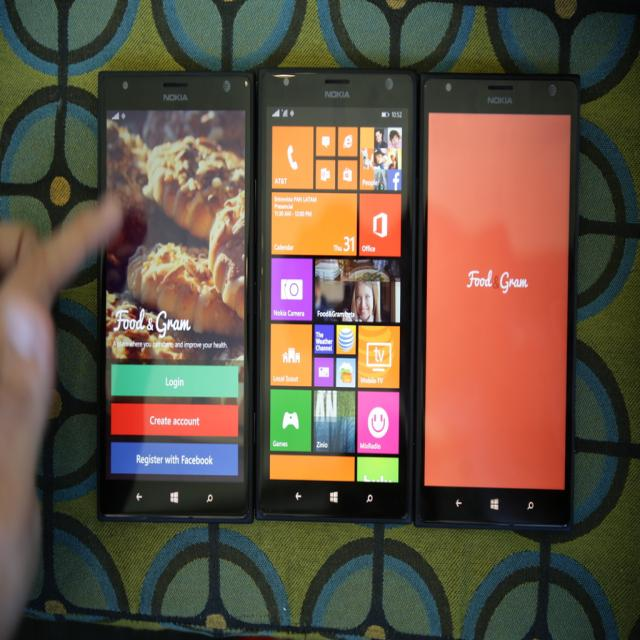Mobile-phone: (252, 64, 418, 529), (416, 72, 576, 536), (97, 70, 255, 523)
